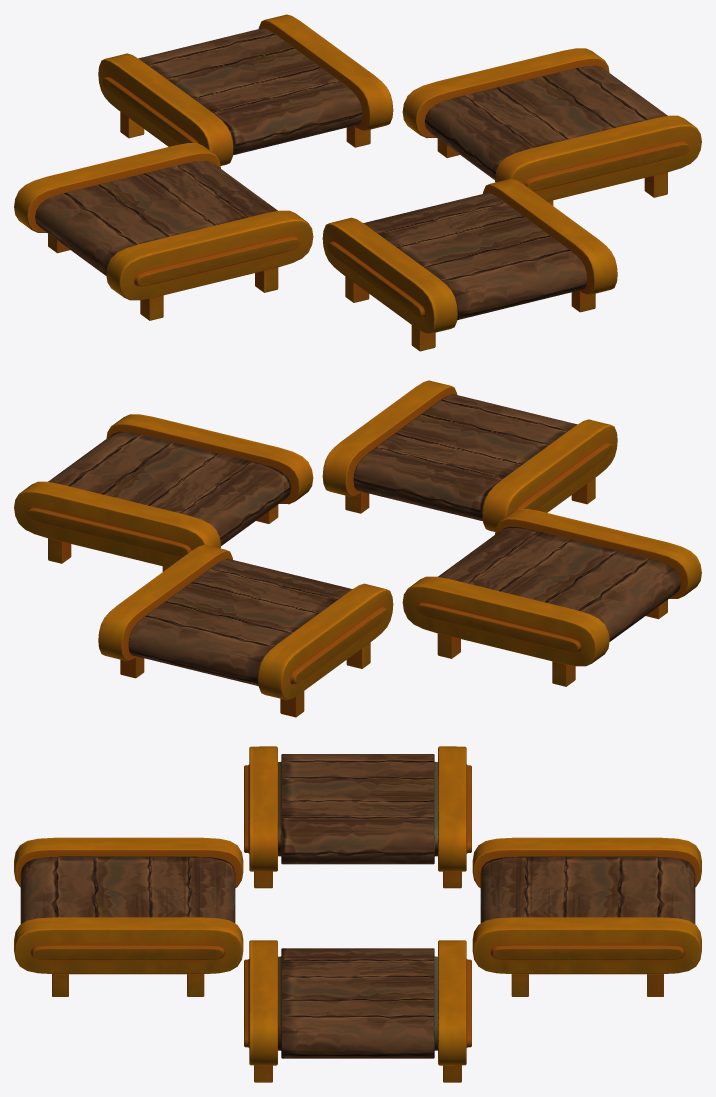
File: BaseBelt.fbx
The picture shows the model from 3 angles, top to bottom: view 1: azimuth 30°, elevation 25°; view 2: azimuth 150°, elevation 25°; view 3: azimuth 270°, elevation 25°; orthographic projection. The views are drawn at different scales.
Visible parts, largest first — view 1: belt; view 2: belt; view 3: belt.
Part boxes in pixels (x1,y1,x2,y2): belt: (14,14,701,351); belt: (14,380,701,717); belt: (14,746,701,1082).
Bounding box in the file's own units: 299 × 33.78 × 299.
